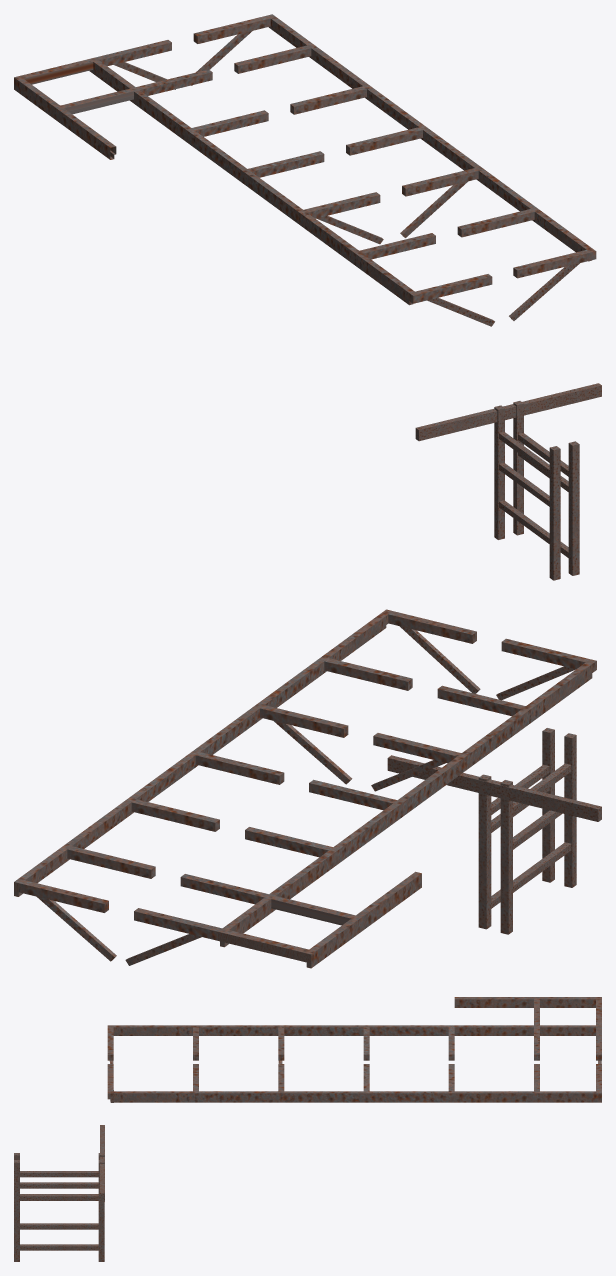
The model's file is SM_NeoLD_01_Metal_00.fbx.
The picture shows the model from 3 angles, top to bottom: view 1: azimuth 30°, elevation 25°; view 2: azimuth 150°, elevation 25°; view 3: azimuth 270°, elevation 25°; orthographic projection. The views are drawn at different scales.
Visible parts, largest first — view 1: SM_NeoLD_01_Metal_00; view 2: SM_NeoLD_01_Metal_00; view 3: SM_NeoLD_01_Metal_00.
Boxes of the visible parts, left/top/right/bottom form: SM_NeoLD_01_Metal_00: left=14, top=14, right=601, bottom=580; SM_NeoLD_01_Metal_00: left=14, top=609, right=601, bottom=968; SM_NeoLD_01_Metal_00: left=14, top=997, right=601, bottom=1261.
Size of the model in its own units: 1080 by 1031 by 2780.
